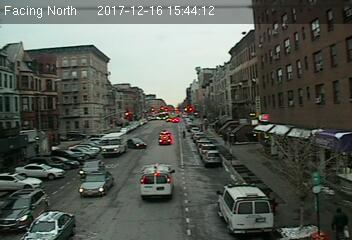car: (1, 186, 51, 231), (18, 209, 78, 240), (80, 171, 114, 196), (80, 160, 103, 176), (202, 150, 222, 166)
police: (218, 180, 274, 234)
truck: (141, 164, 176, 201), (101, 133, 126, 154)
